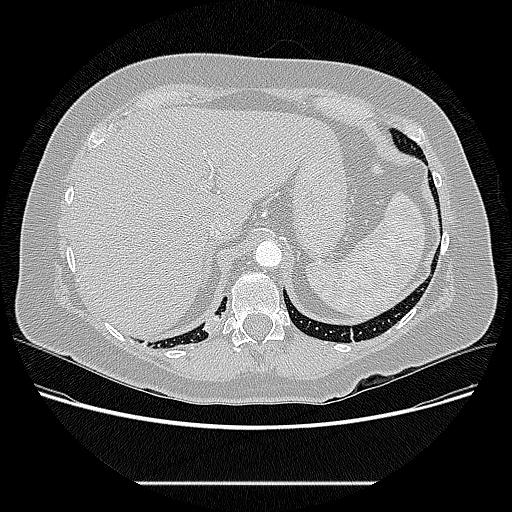nodule: (202, 314, 222, 334)
